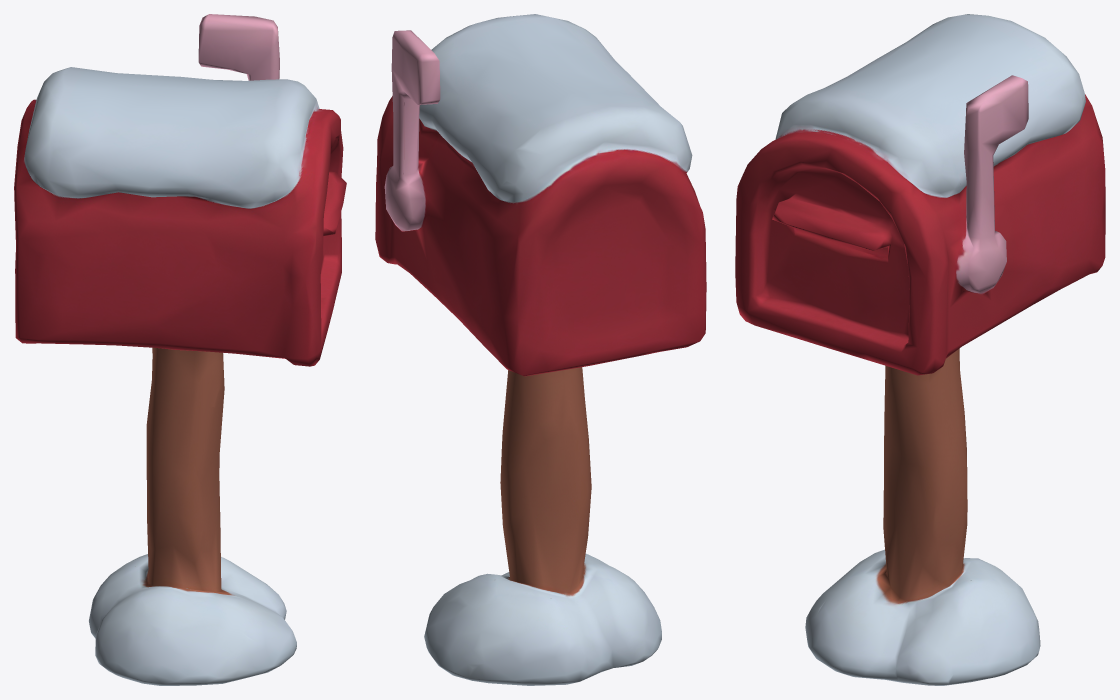
Rendered from mailbox.glb.
3 renders of one model, left to right at view 1: azimuth 30°, elevation 25°; view 2: azimuth 150°, elevation 25°; view 3: azimuth 270°, elevation 25°, orthographic. The views are drawn at different scales.
Visible parts, largest first — view 1: tripo_node_dce8d1b4-9f66-4afd-b643-f896f0d01b93; view 2: tripo_node_dce8d1b4-9f66-4afd-b643-f896f0d01b93; view 3: tripo_node_dce8d1b4-9f66-4afd-b643-f896f0d01b93.
Boxes of the visible parts, x1=… form: tripo_node_dce8d1b4-9f66-4afd-b643-f896f0d01b93: x1=14, y1=14, x2=346, y2=685; tripo_node_dce8d1b4-9f66-4afd-b643-f896f0d01b93: x1=375, y1=14, x2=706, y2=685; tripo_node_dce8d1b4-9f66-4afd-b643-f896f0d01b93: x1=735, y1=14, x2=1105, y2=685.
Size of the model in its own units: 0.5741 by 1 by 0.5592.
1 material, 1 textured.
